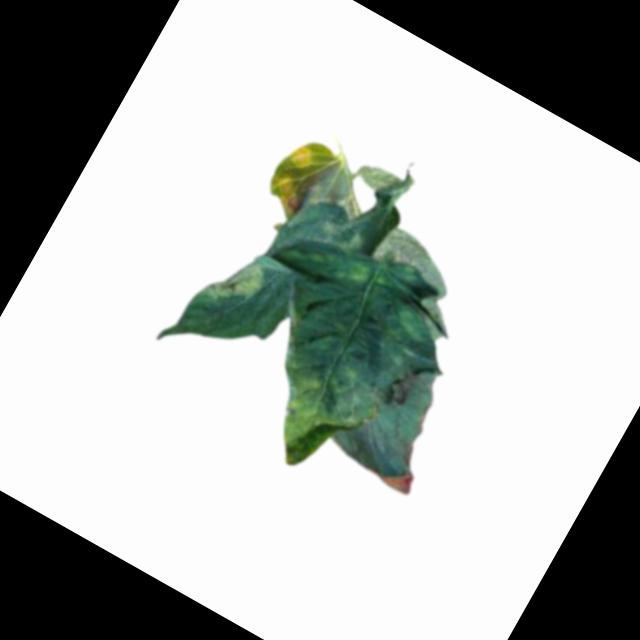Leaf_Mold: (256, 130, 335, 223), (200, 243, 275, 318), (361, 218, 441, 286), (373, 351, 444, 426)
